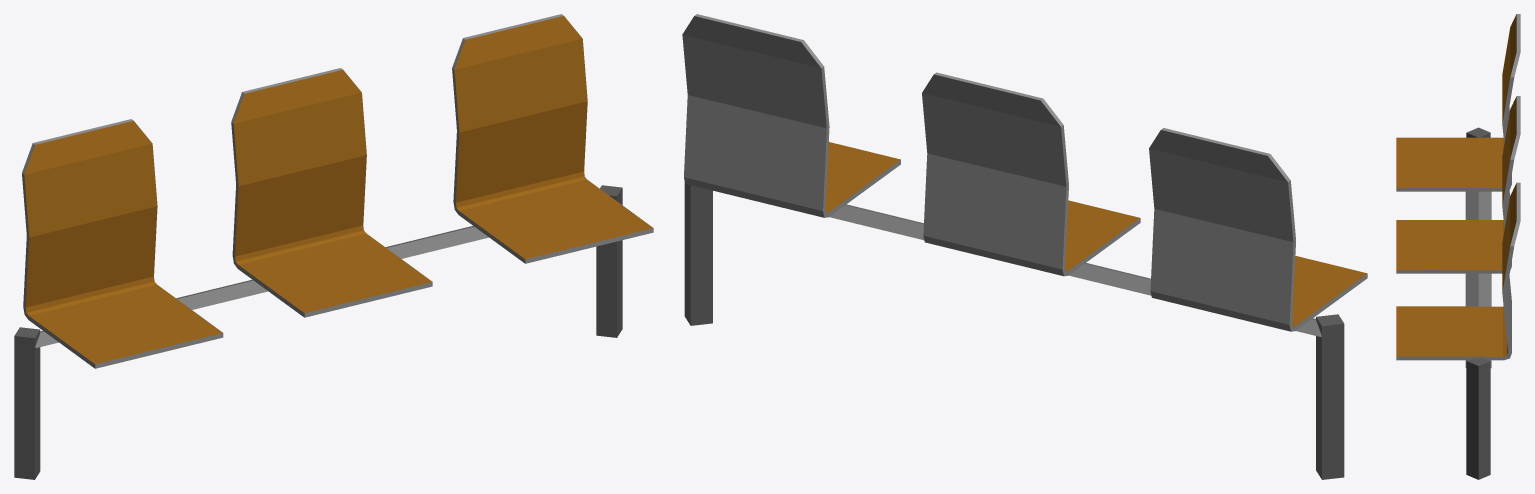
Rendered from sedie sala aspetto.FBX.
The picture shows the model from 3 angles, left to right: view 1: azimuth 30°, elevation 25°; view 2: azimuth 150°, elevation 25°; view 3: azimuth 270°, elevation 25°; orthographic projection. The views are drawn at different scales.
Parts seen in each view (by area): view 1: sedia aspetto_2; view 2: sedia aspetto_2; view 3: sedia aspetto_2.
Boxes of the visible parts, x1,y1,x2,y2 form: sedia aspetto_2: [14, 14, 653, 479]; sedia aspetto_2: [682, 14, 1367, 479]; sedia aspetto_2: [1396, 14, 1520, 479].
Size of the model in its own units: 1.98 by 0.9495 by 0.4363.
